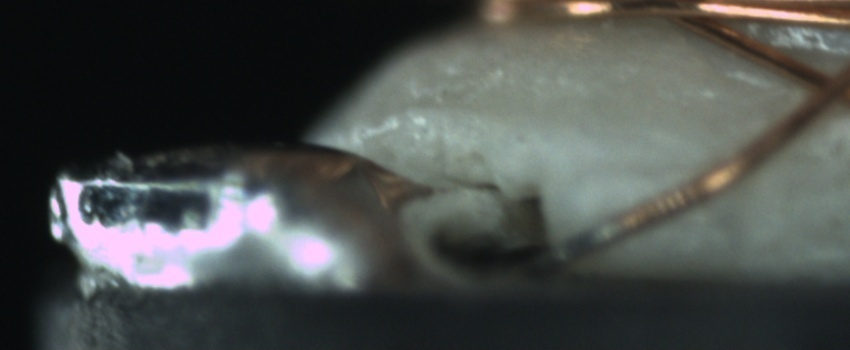CL: (780, 54, 848, 122)
TS: (528, 221, 623, 275)
